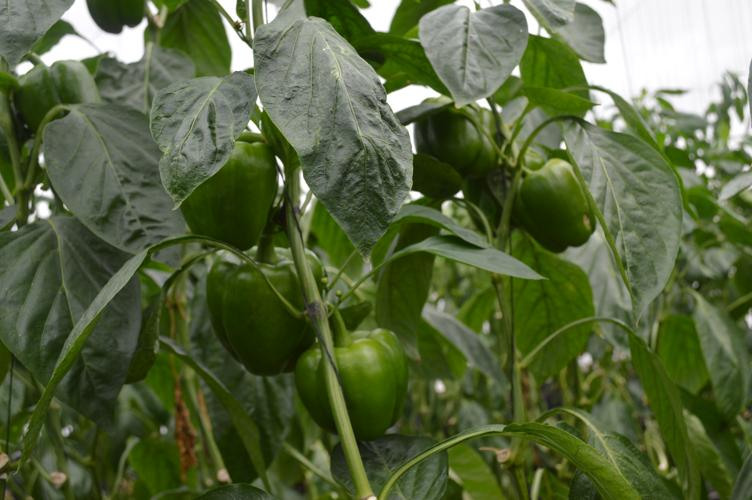BellPepper: (201, 239, 329, 378), (159, 116, 279, 251), (295, 323, 413, 455), (403, 88, 505, 202), (506, 155, 606, 258), (14, 58, 109, 144)
